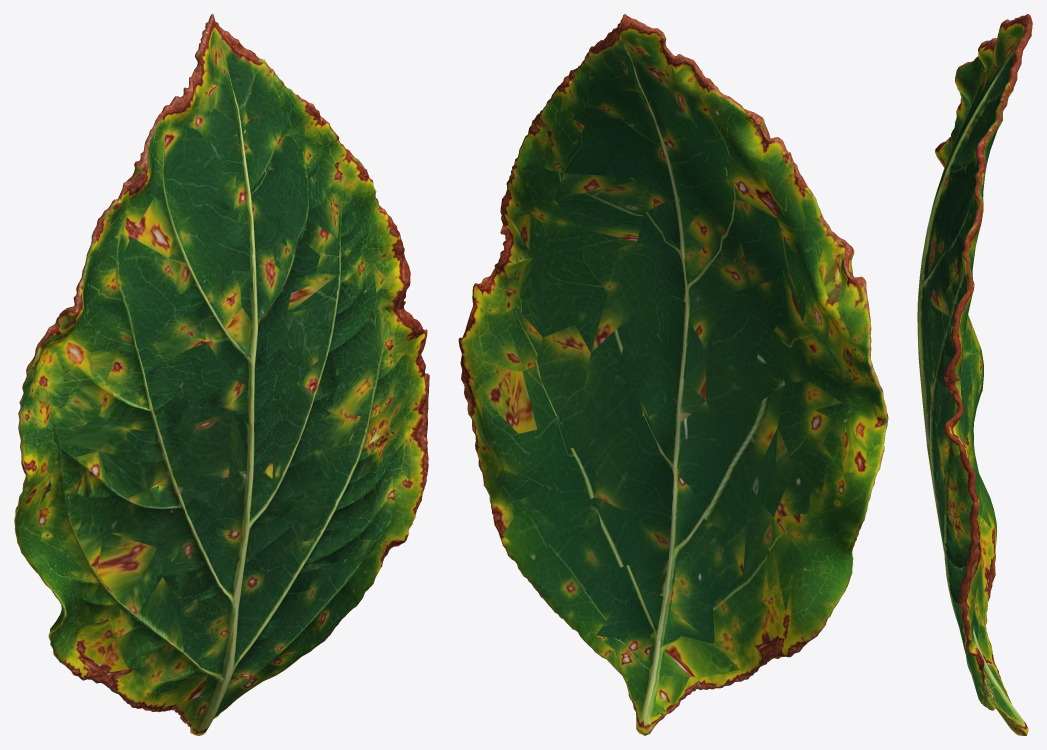
File: bell_pepper_bacterial_spot.glb
The picture shows the model from 3 angles, left to right: view 1: azimuth 30°, elevation 25°; view 2: azimuth 150°, elevation 25°; view 3: azimuth 270°, elevation 25°; orthographic projection. The views are drawn at different scales.
Parts seen in each view (by area): view 1: bell_pepper_bacterial_spot; view 2: bell_pepper_bacterial_spot; view 3: bell_pepper_bacterial_spot.
Part boxes in pixels (x1,y1,x2,y2): bell_pepper_bacterial_spot: [14, 14, 429, 735]; bell_pepper_bacterial_spot: [458, 14, 888, 735]; bell_pepper_bacterial_spot: [917, 14, 1032, 735].
Size of the model in its own units: 0.6109 by 0.9999 by 0.143.
Materials: 1 (1 with a texture image).
